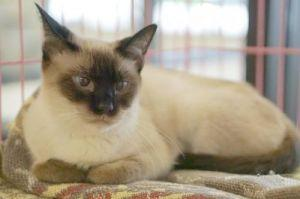siamese: (32, 1, 161, 141)
